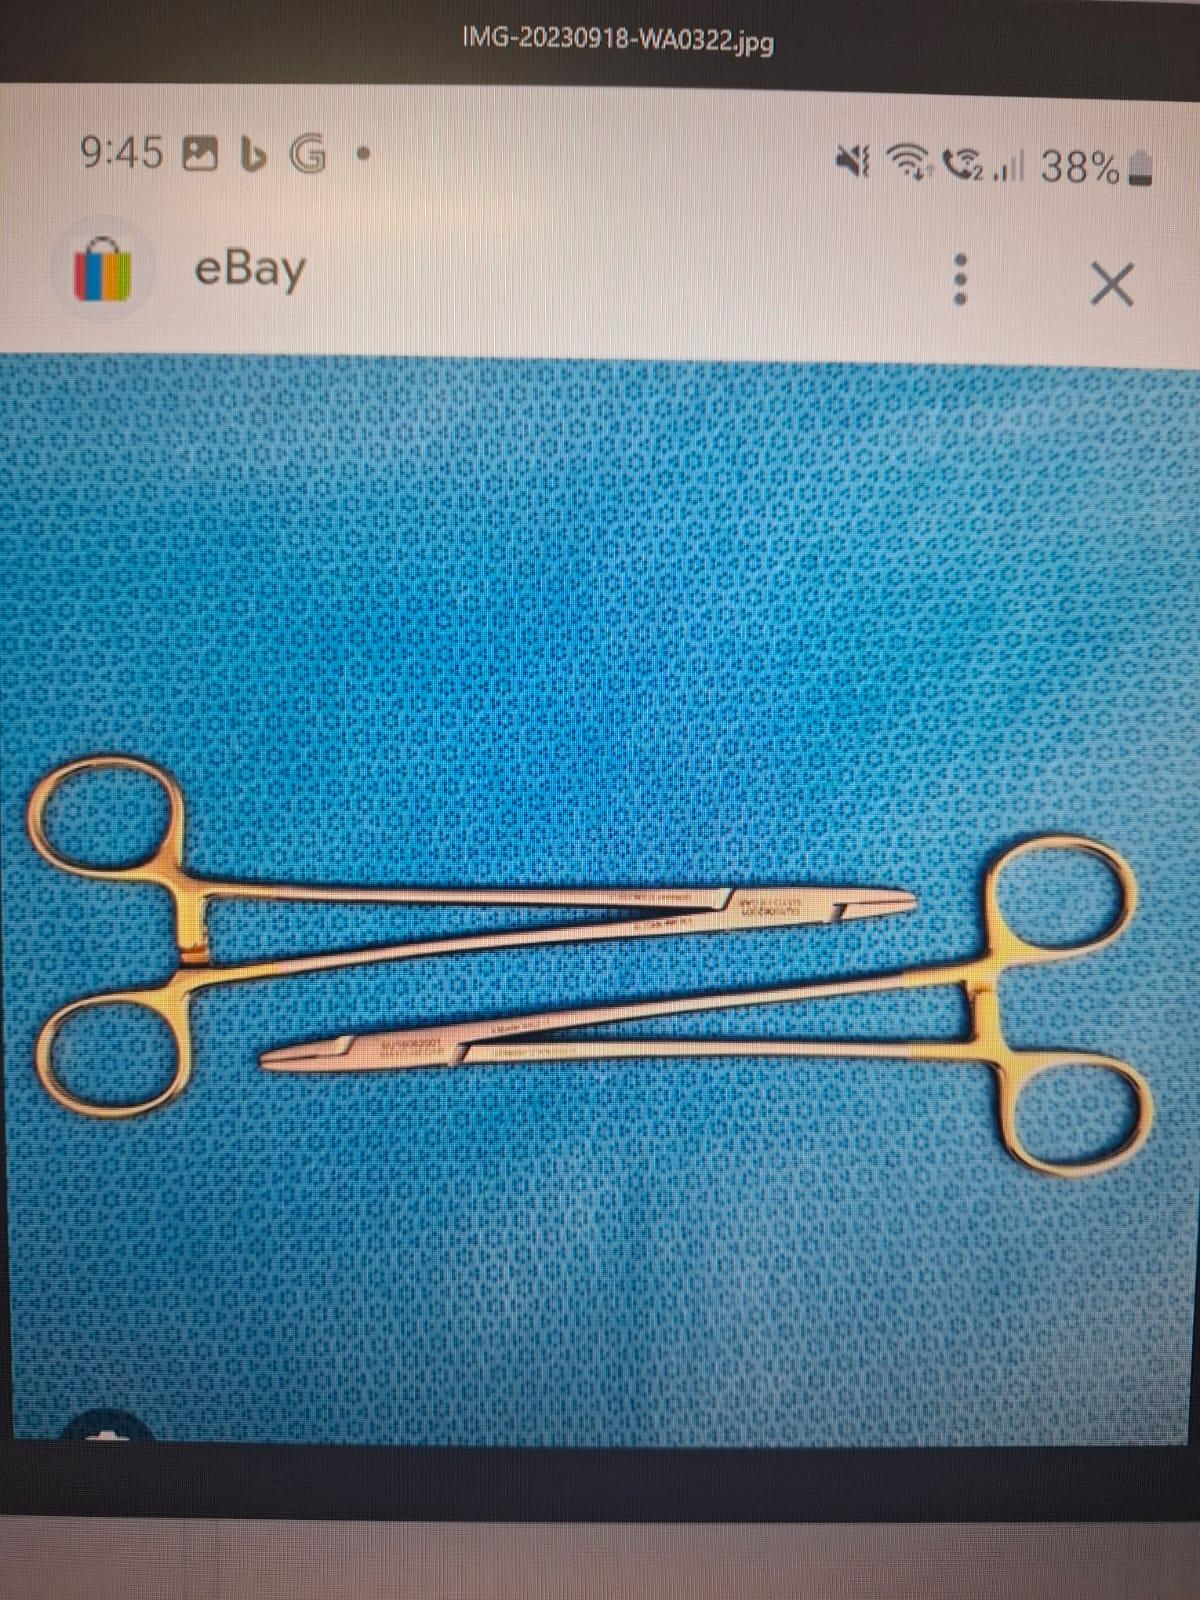Needle Holder: (242, 818, 1177, 1222), (18, 742, 935, 1138)
